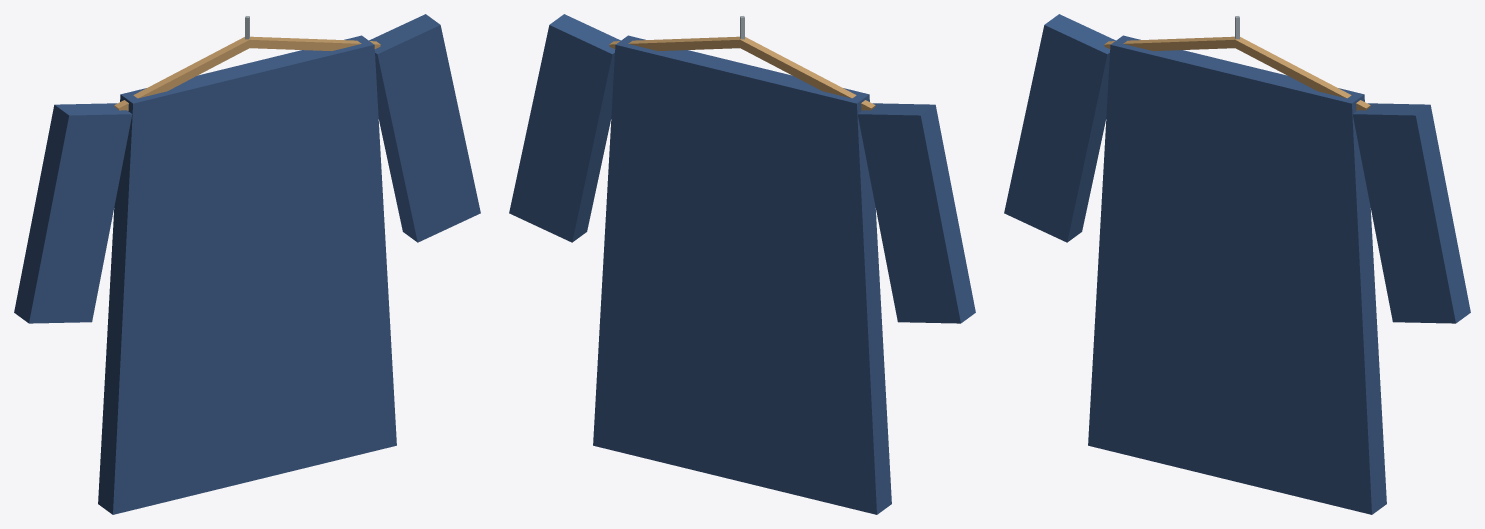
File: FD_Shirt_Hanger_01.glb
The picture shows the model from 3 angles, left to right: view 1: azimuth 30°, elevation 25°; view 2: azimuth 150°, elevation 25°; view 3: azimuth 330°, elevation 25°; orthographic projection.
Visible parts, largest first — view 1: FD_Shirt_Hanger_01; view 2: FD_Shirt_Hanger_01; view 3: FD_Shirt_Hanger_01.
Boxes of the visible parts, x1,y1,x2,y2 form: FD_Shirt_Hanger_01: (14,14,480,514); FD_Shirt_Hanger_01: (509,14,975,514); FD_Shirt_Hanger_01: (1004,14,1470,514).
Size of the model in its own units: 0.7002 by 0.678 by 0.04.
1 material, 1 textured.
